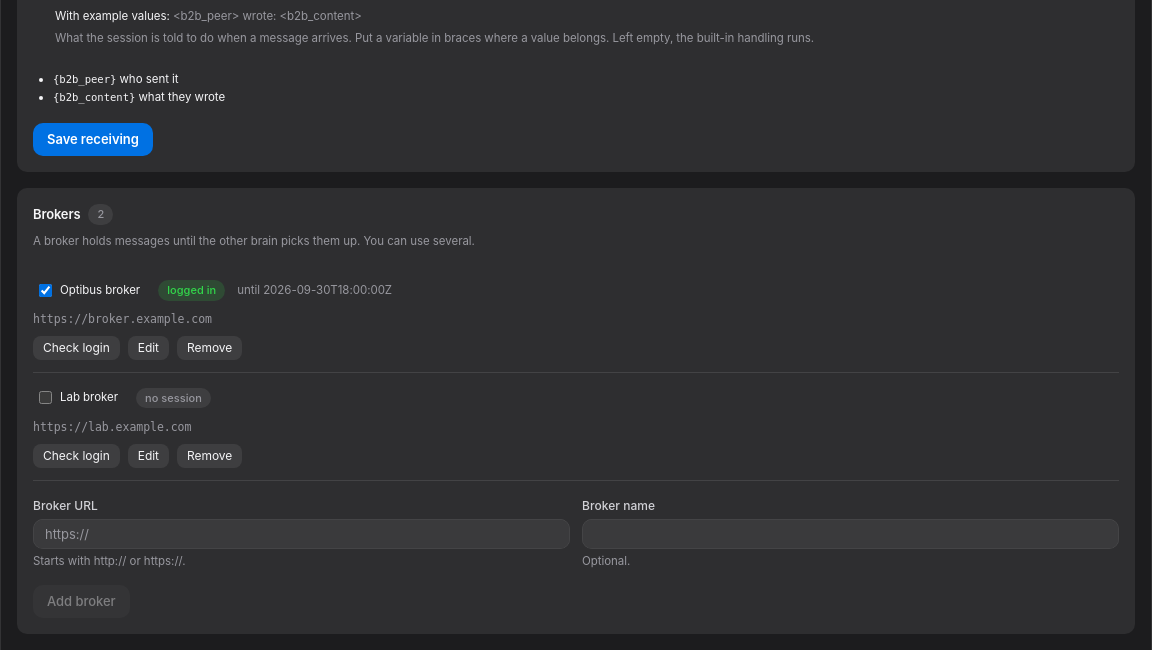
B2B › switches a broker off, and checks its login inline
(page scrolled)
Click the checkbox labelled "Optibus broker": [46, 290] box [39,284,52,297]
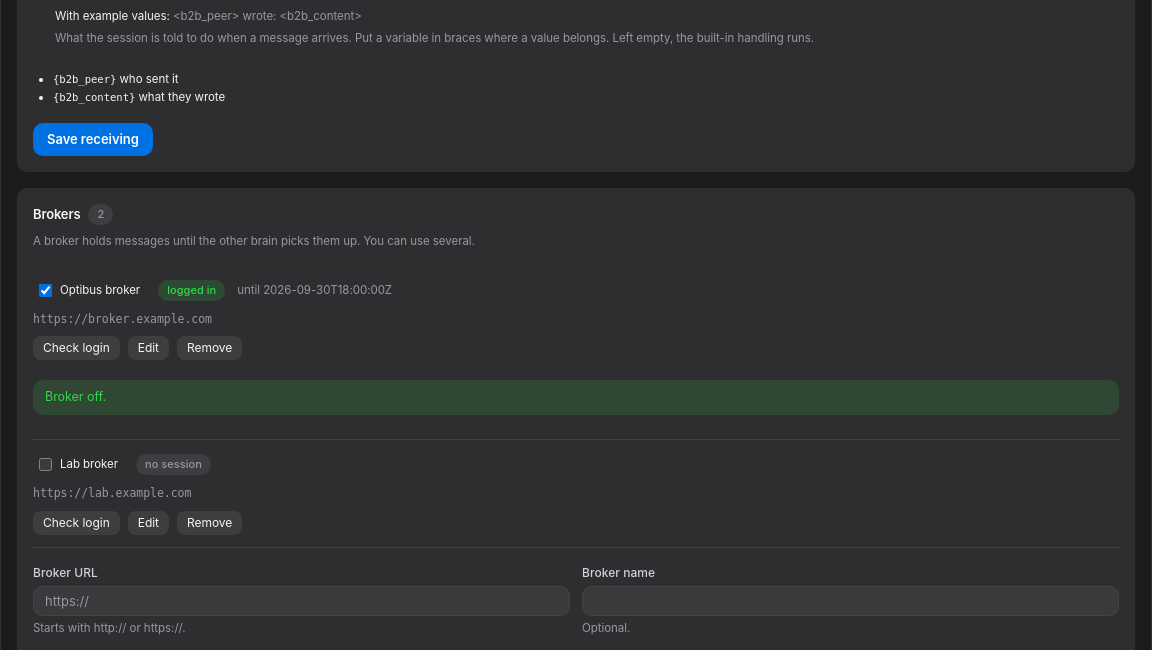
Click the button "Check login" below "Optibus broker": [76, 348] box [33,336,120,360]
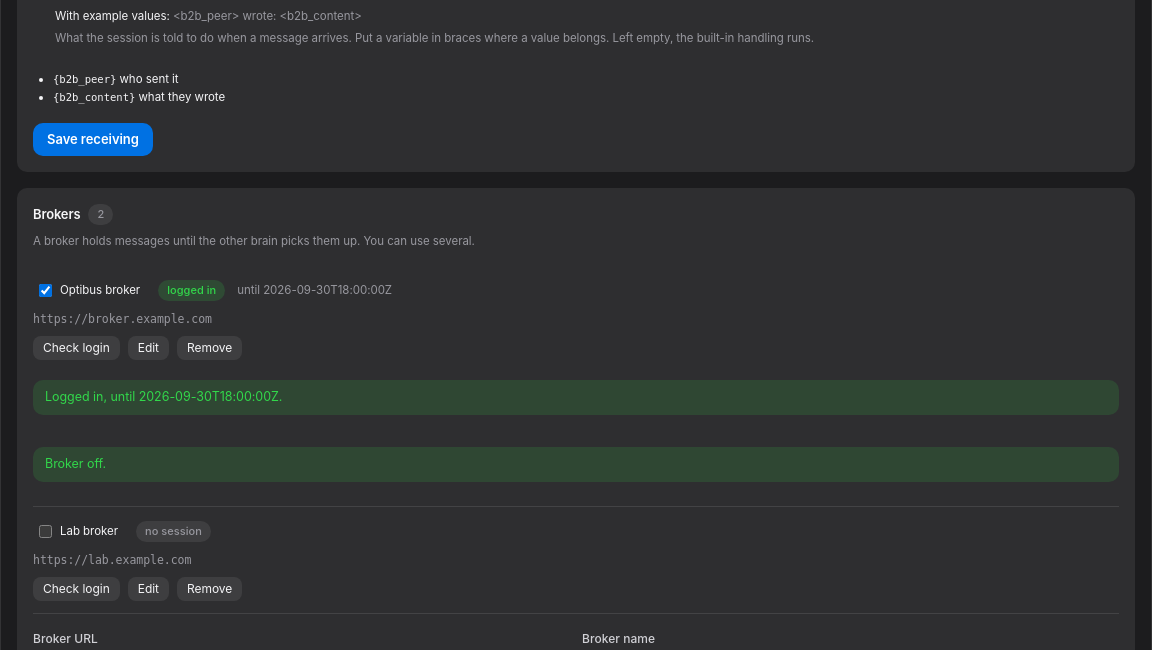
Result: the text "Logged in, until 2026-09-30T18:00:00Z." is shown at [33,380,1119,415]
